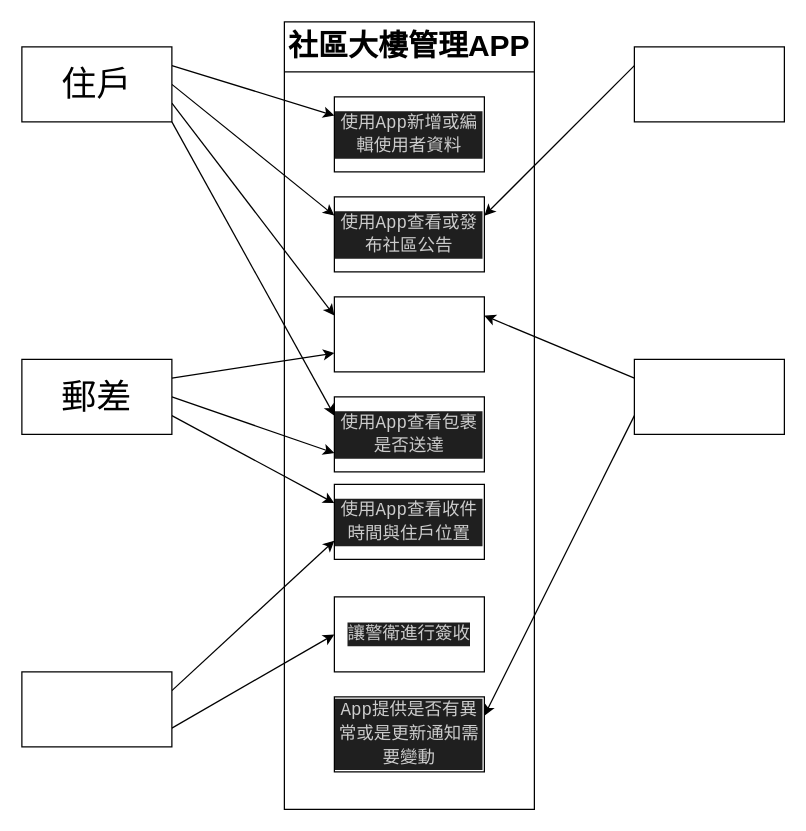
Some shapes in this 806 by 831 pixel diagram are drawn without their labels. Here are the shapes that lost their labels. From the top down, the centre of each, then its label:
the point at 708,84: 委員
the point at 408,334: 使用App提供個人意見及想法，或是獲得反饋
the point at 708,396: App開發員
the point at 96,709: 警衛
